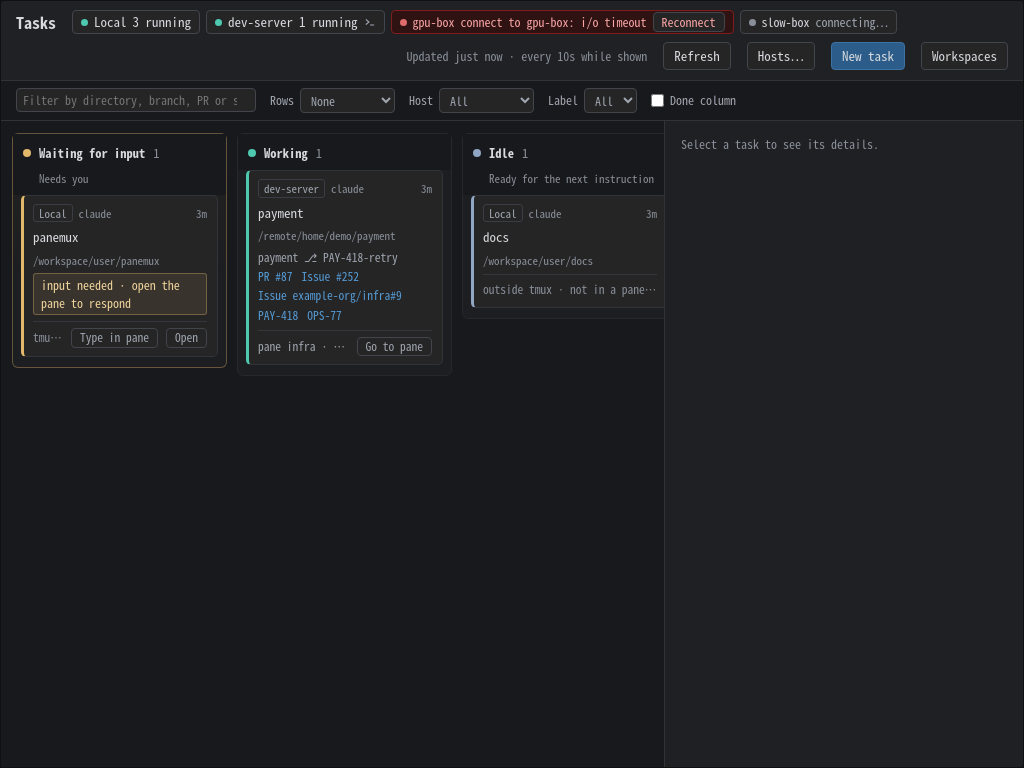
Test case: TaskDashboard › filters by text and host, and splits rows by host or repository
In the search field named "Filter tasks": (136, 100) [16,88,256,112], type "pay-418"
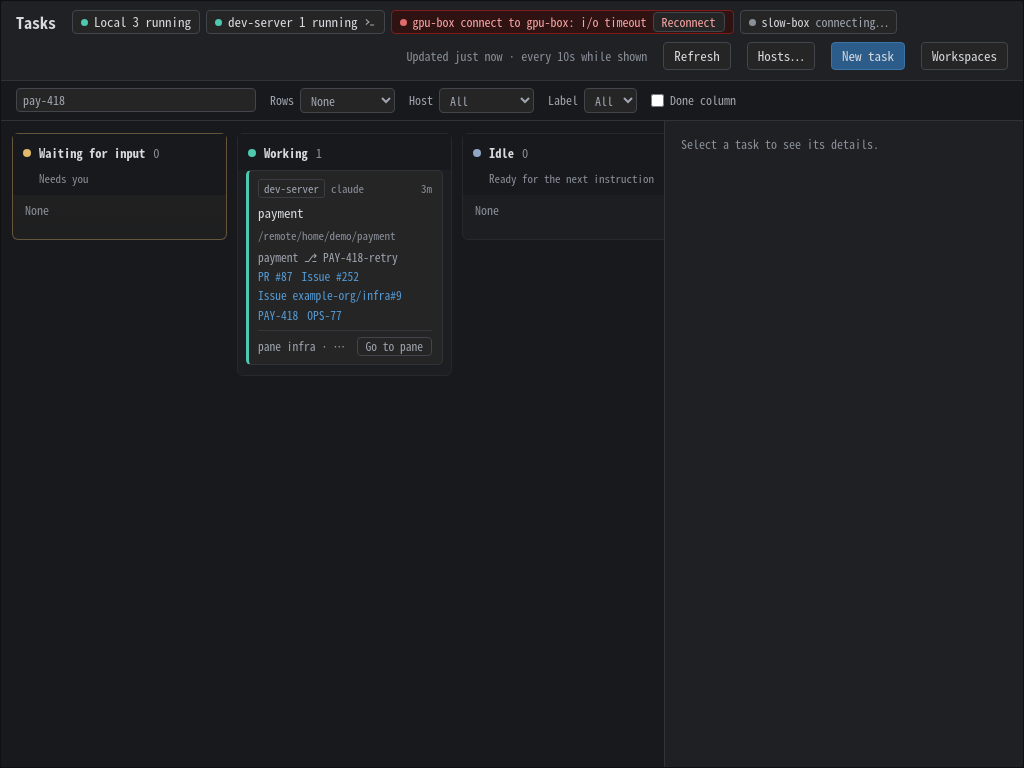
Clear the search field named "Filter tasks": (136, 100) [16,88,256,112]
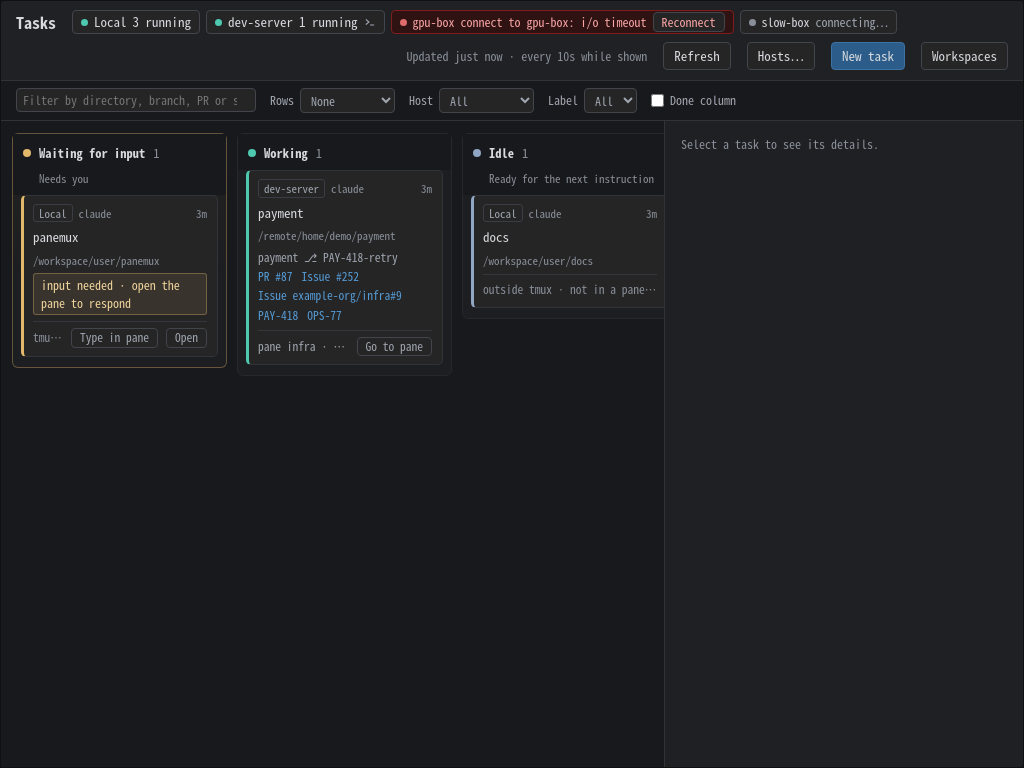
Select "dev-server" in the dropdown named "Show host": (486, 100) [439,88,534,112]
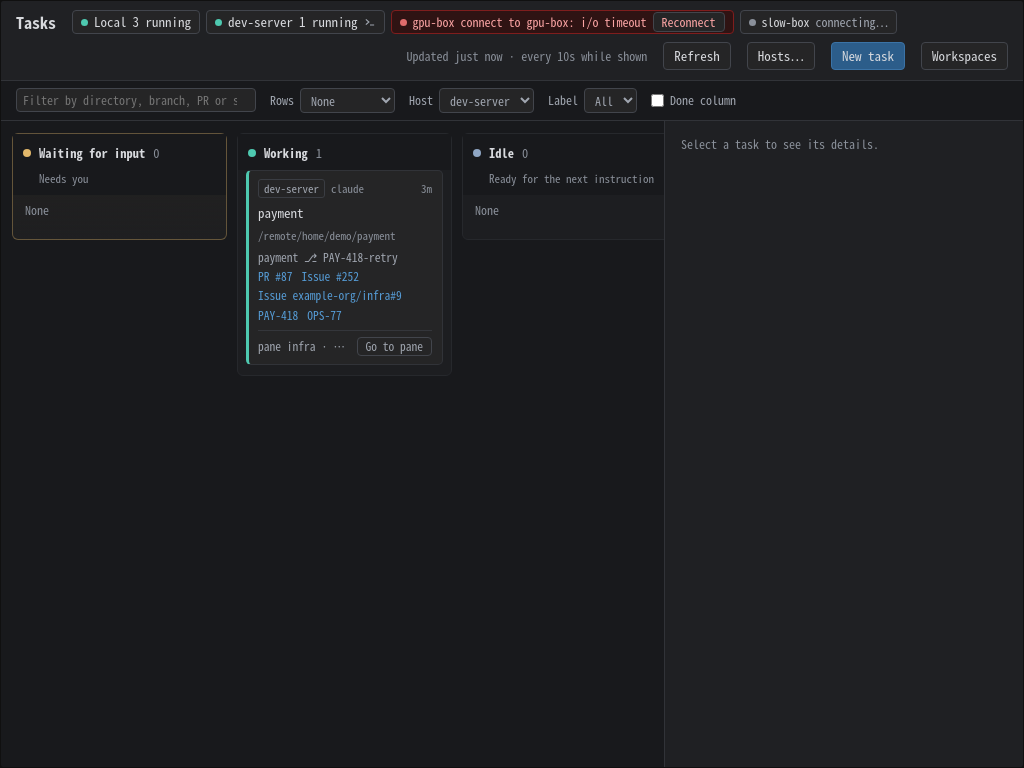
Select "Local" in the dropdown named "Show host": (486, 100) [439,88,534,112]
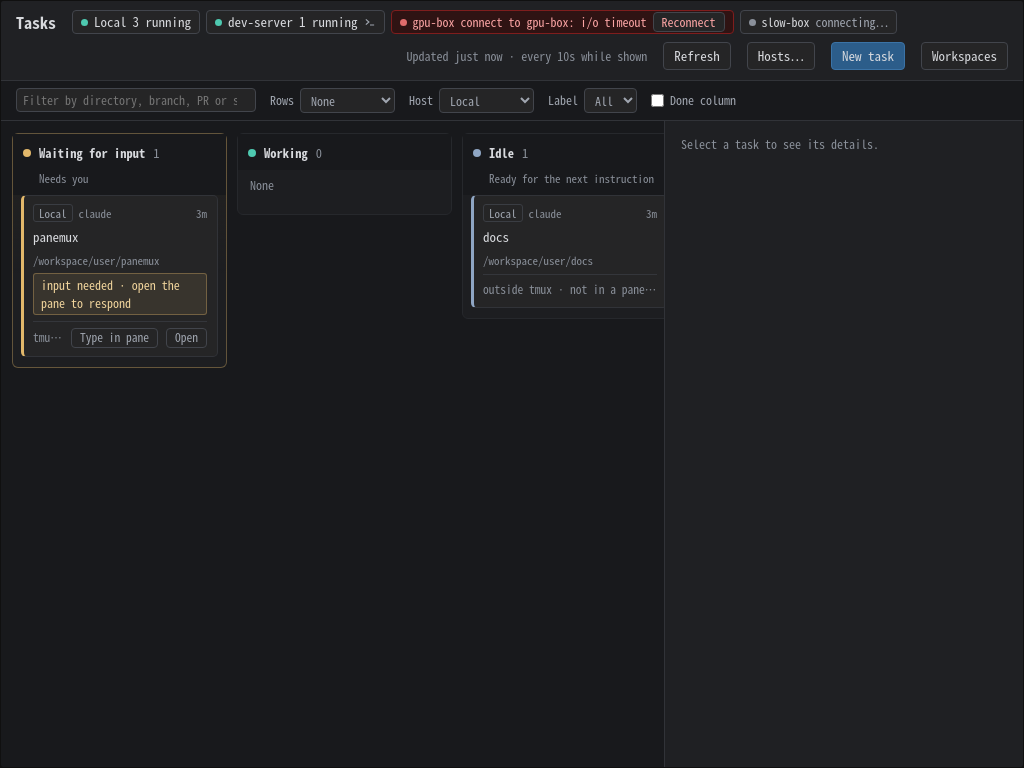
Select "Repository" in the dropdown named "Split rows by": (348, 100) [300,88,395,112]
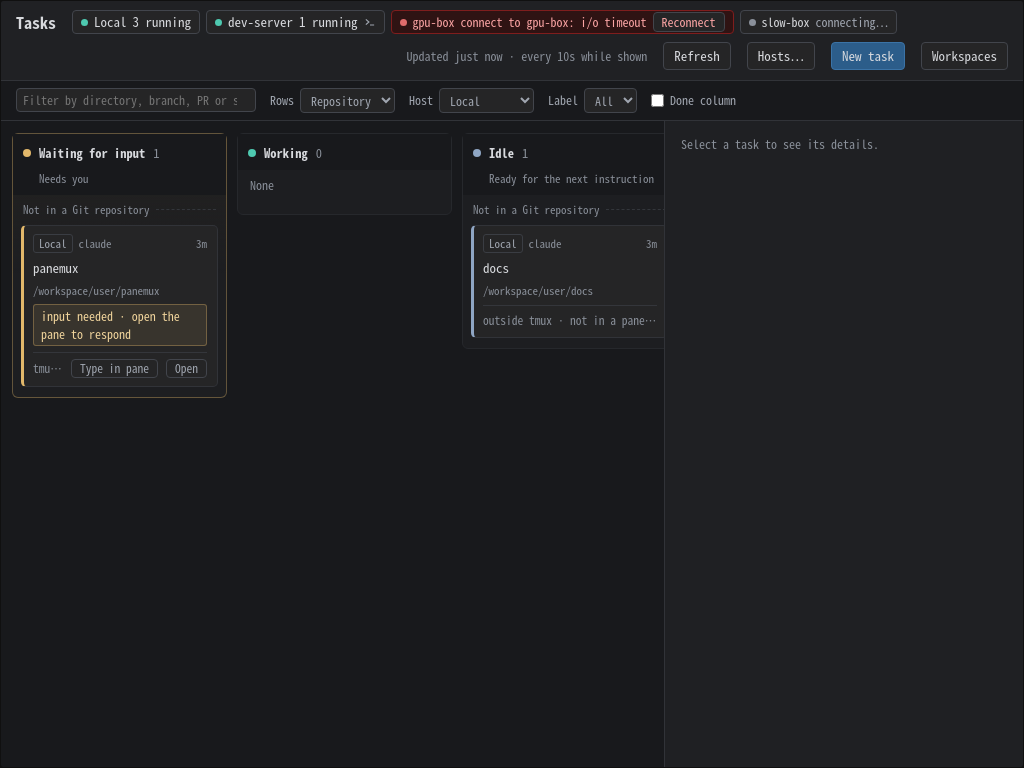
Check: the heading "Not in a Git repository" below "Needs you" is shown, box [23,201,150,217]
